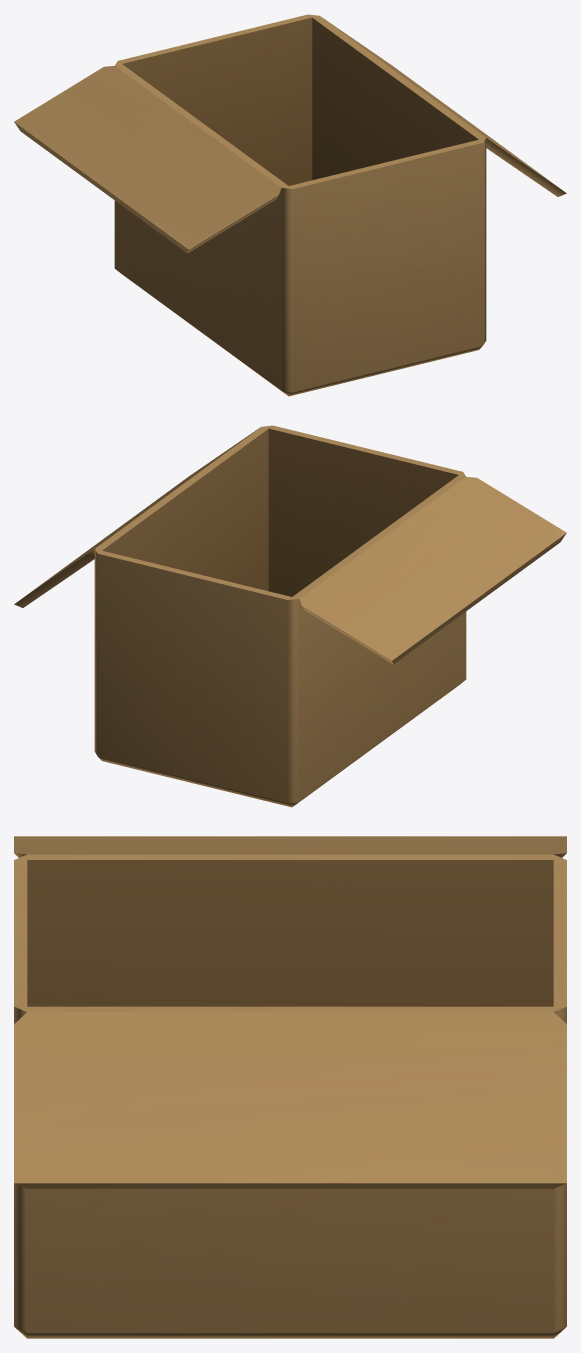
The model's file is box_cardboard_large_rectangle_open_flaps.fbx.
3 renders of one model, top to bottom at view 1: azimuth 30°, elevation 25°; view 2: azimuth 150°, elevation 25°; view 3: azimuth 270°, elevation 25°, orthographic. The views are drawn at different scales.
Visible parts, largest first — view 1: box_cardboard_large_rectangle_open_flaps; view 2: box_cardboard_large_rectangle_open_flaps; view 3: box_cardboard_large_rectangle_open_flaps.
Part boxes in pixels (left/top/right/bottom): box_cardboard_large_rectangle_open_flaps: left=14, top=14, right=566, bottom=396; box_cardboard_large_rectangle_open_flaps: left=14, top=425, right=566, bottom=807; box_cardboard_large_rectangle_open_flaps: left=14, top=836, right=566, bottom=1338.
Size of the model in its own units: 191 by 102 by 154.
